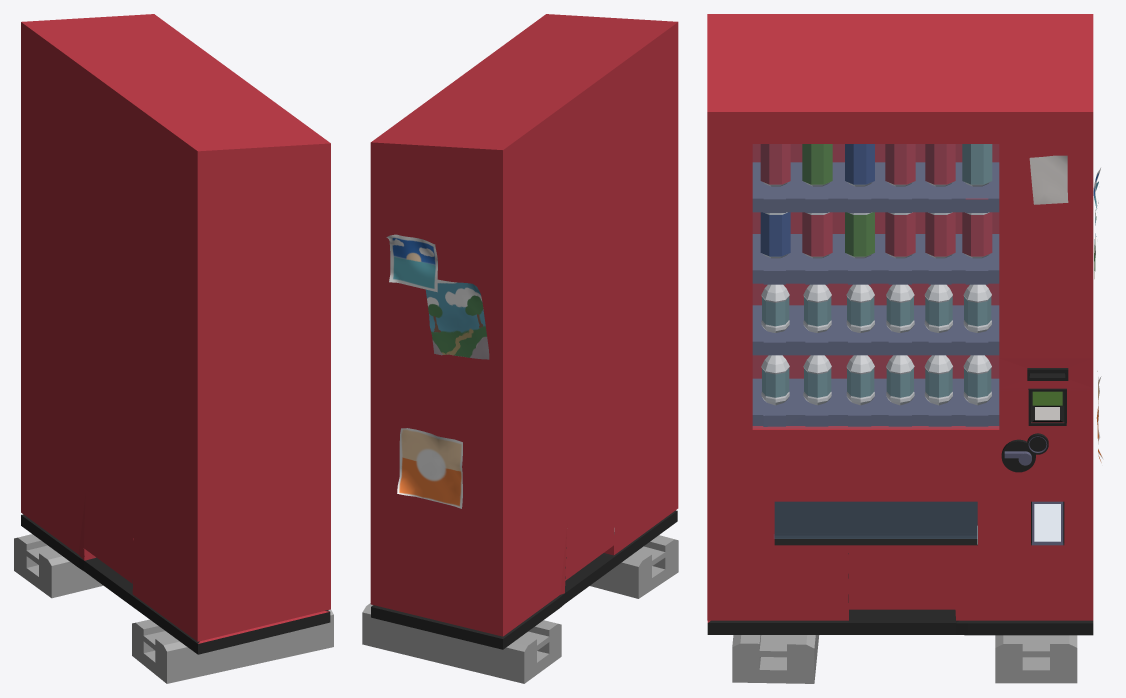
Rendered from Vending Macine.glb.
3 renders of one model, left to right at view 1: azimuth 30°, elevation 25°; view 2: azimuth 150°, elevation 25°; view 3: azimuth 270°, elevation 25°, orthographic. The views are drawn at different scales.
Parts seen in each view (by area): view 1: Cube.327; view 2: Cube.327; view 3: Cube.327.
Boxes of the visible parts, x1=… form: Cube.327: x1=14, y1=14, x2=333, y2=683; Cube.327: x1=362, y1=14, x2=678, y2=683; Cube.327: x1=707, y1=14, x2=1103, y2=683.
Bounding box in the file's own units: 0.1463 × 0.4554 × 0.2831.
5 materials, 4 textured.
